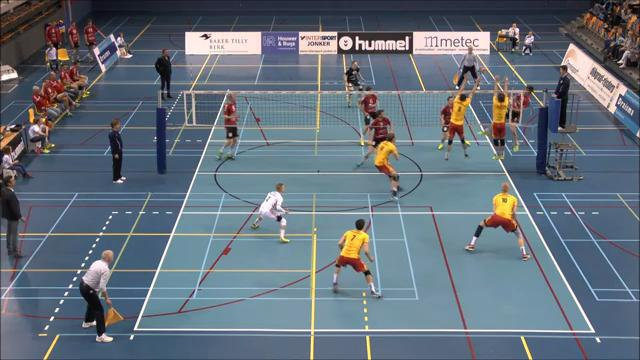Attack: (509, 83, 533, 155)
Block: (442, 73, 481, 161), (491, 73, 509, 163)
Player: (465, 183, 529, 260), (333, 219, 381, 297), (251, 183, 289, 242), (357, 109, 393, 166), (374, 133, 399, 200), (217, 93, 237, 159), (359, 87, 378, 145), (344, 61, 364, 106), (438, 96, 453, 149)
ball: (477, 66, 486, 74)
